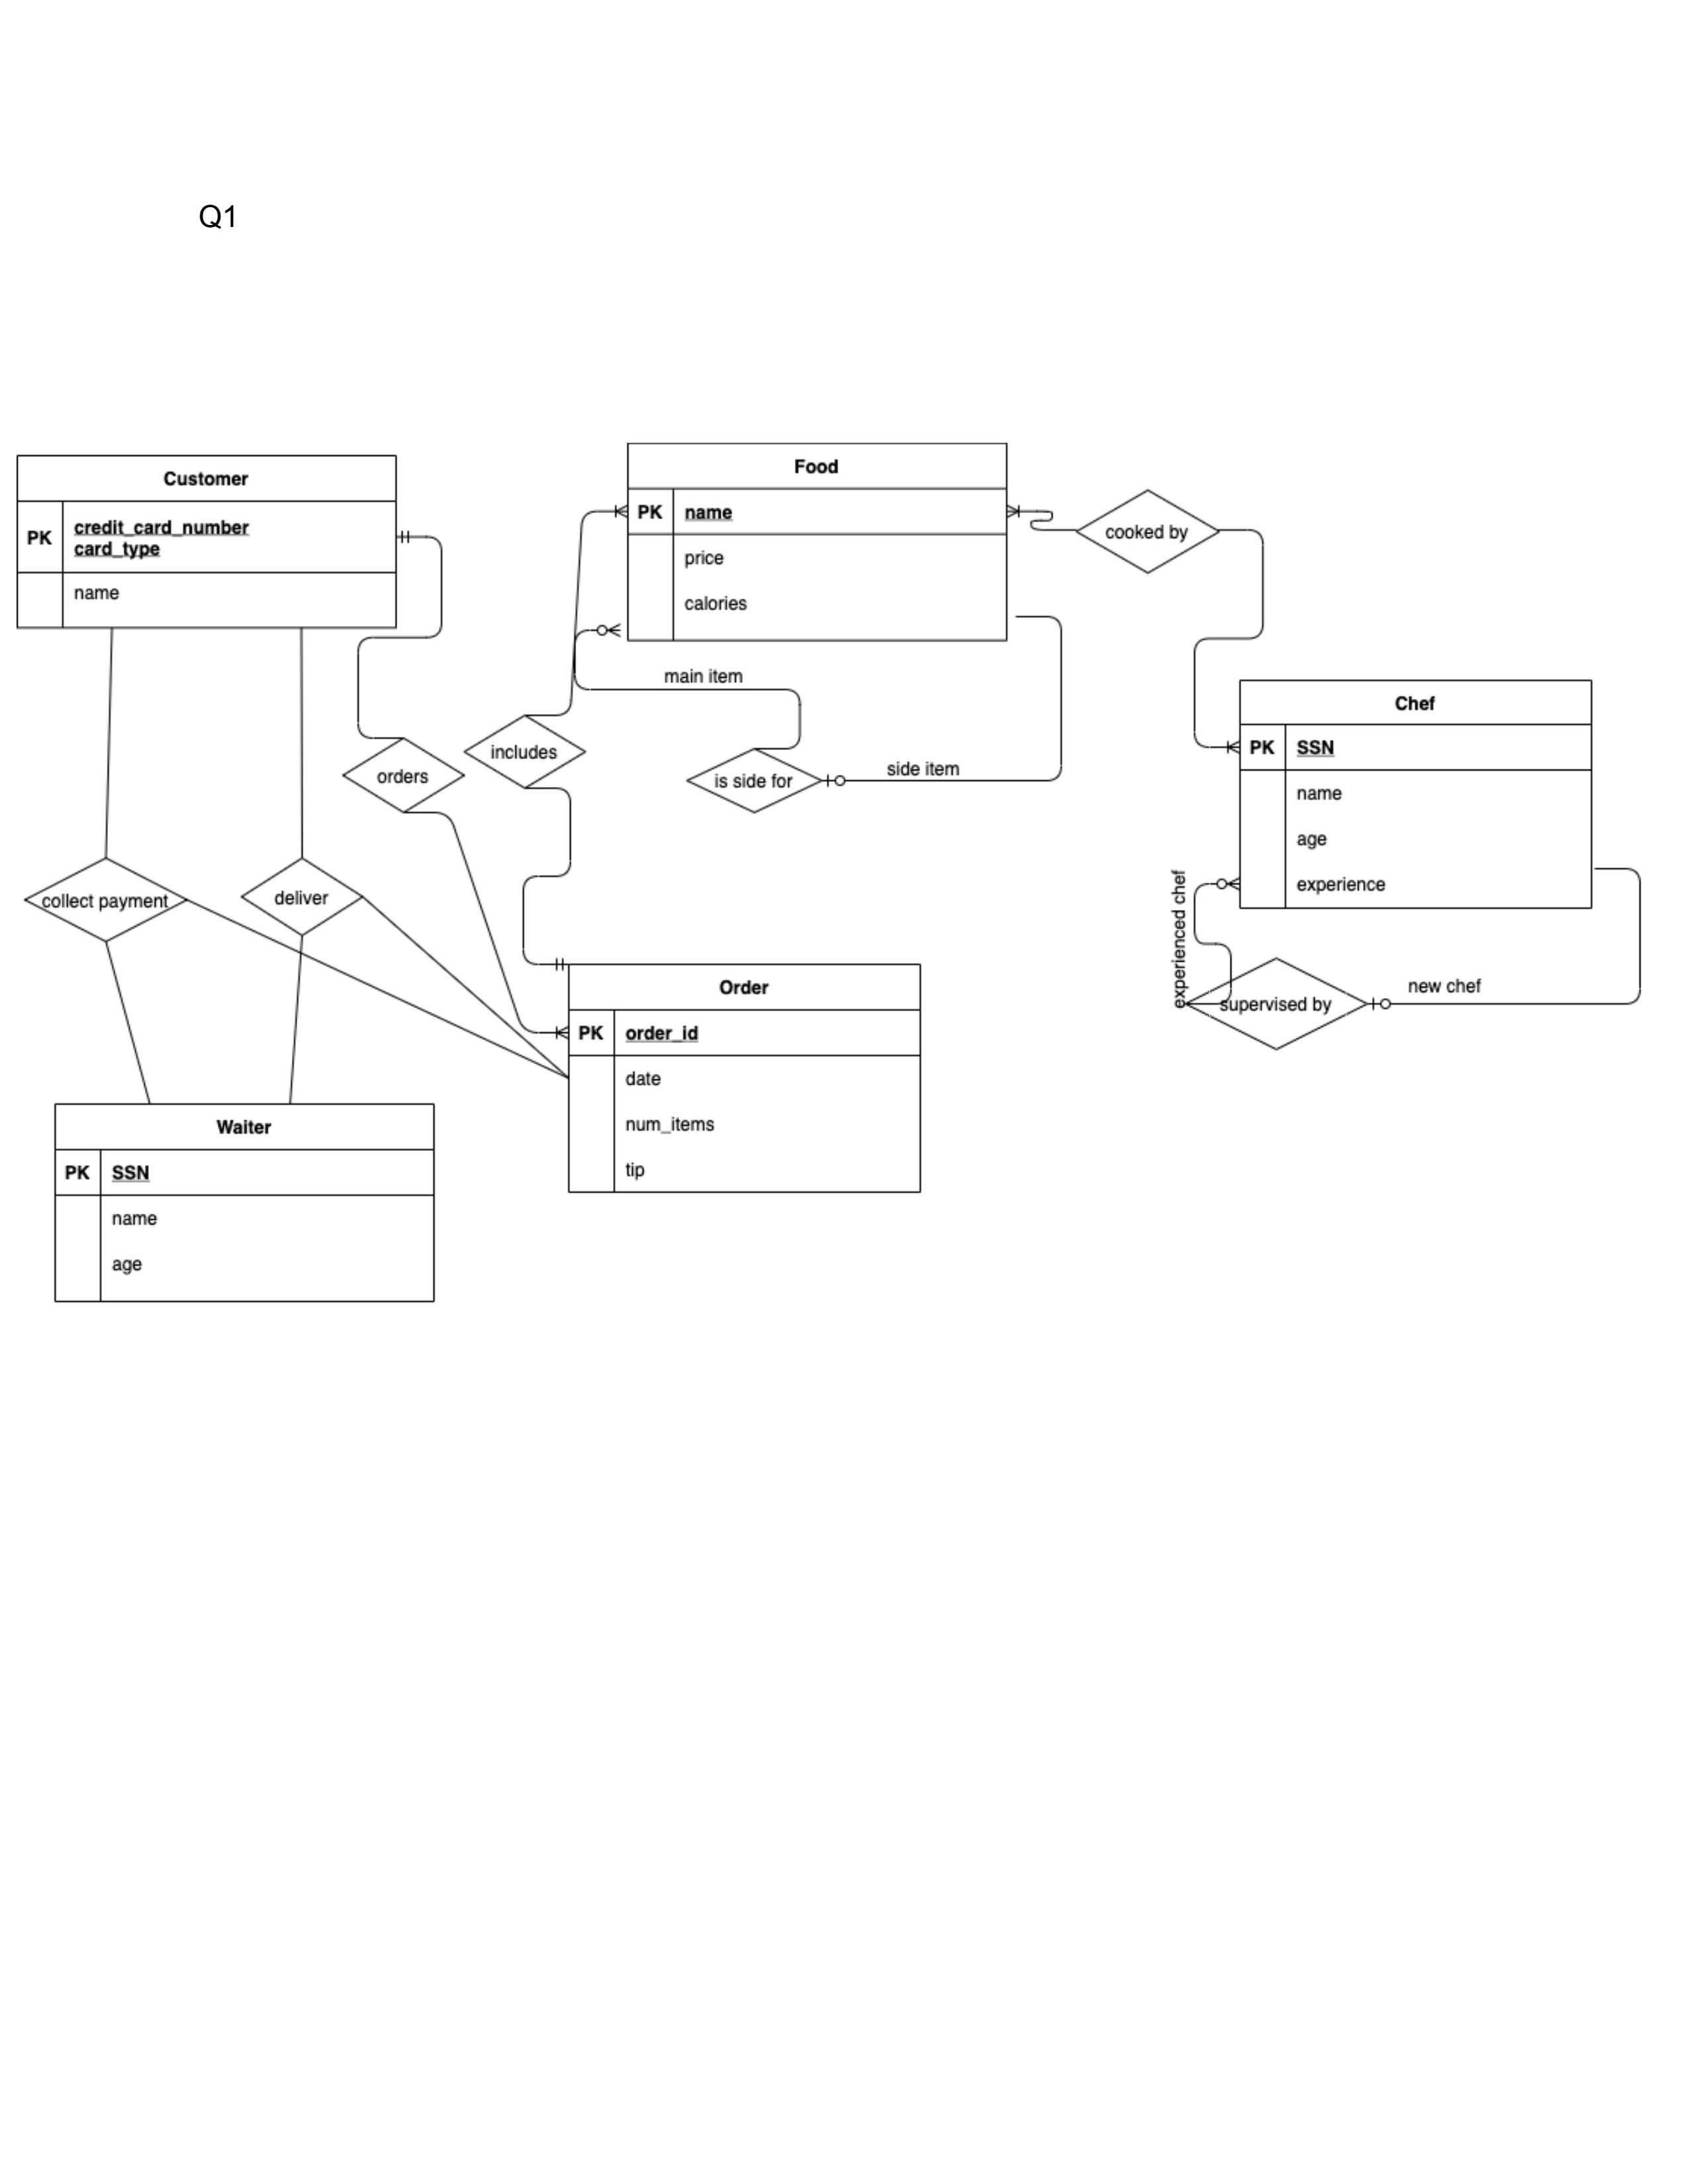Entity: (566, 961, 924, 1195), (1238, 677, 1596, 911), (624, 441, 1009, 645), (51, 1103, 438, 1305), (14, 452, 401, 631)
Relationship: (1188, 957, 1367, 1051), (23, 858, 186, 943), (1075, 489, 1220, 576), (241, 858, 365, 936), (342, 739, 466, 814), (684, 748, 821, 814), (463, 716, 587, 787)
